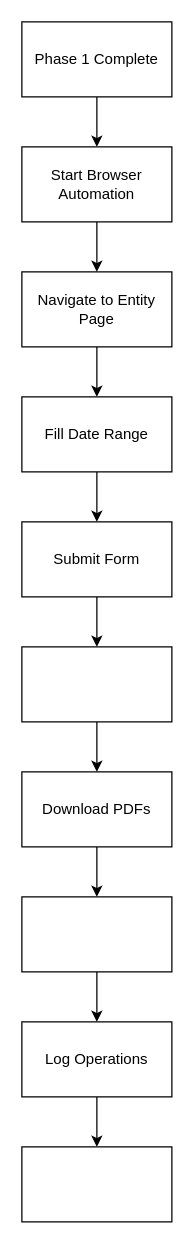
The diagram is 194 pixels wide and 1244 high, and some of its shapes have lost their labels. The box of each missing label's shape, as (x1, y1, x2, y2) in pixels:
Extract PDF Links: (21, 646, 172, 722)
Phase 2 Complete: (21, 1146, 172, 1222)
Store PDFs: (21, 896, 172, 972)
